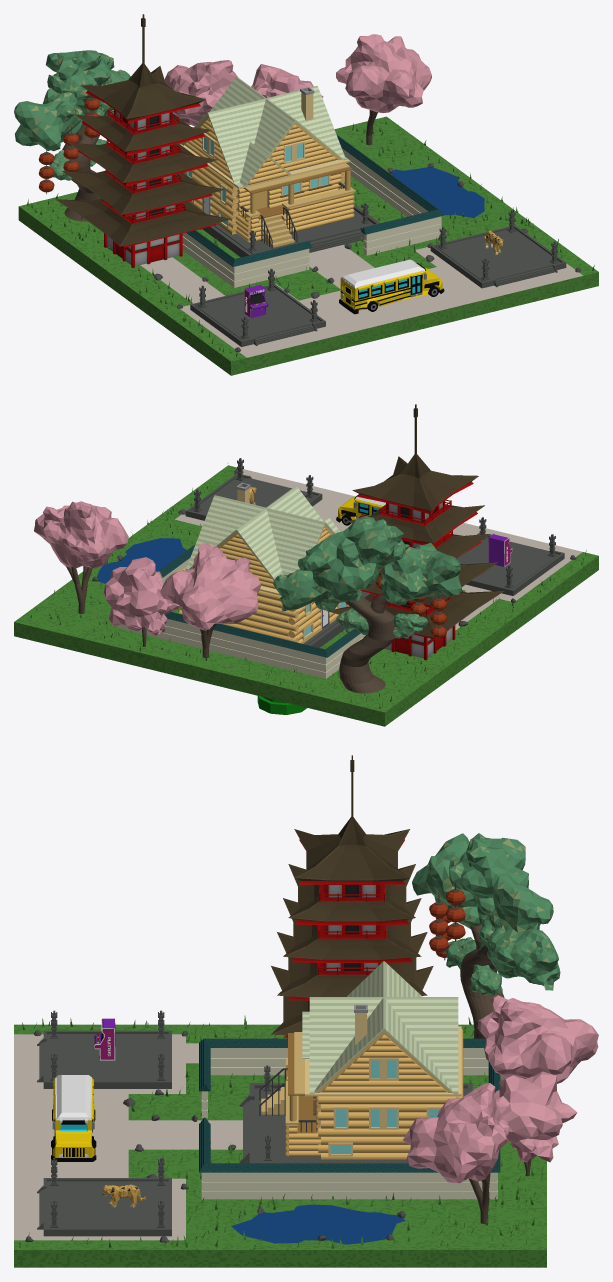
The picture shows the model from 3 angles, top to bottom: view 1: azimuth 30°, elevation 25°; view 2: azimuth 150°, elevation 25°; view 3: azimuth 270°, elevation 25°; orthographic projection. The views are drawn at different scales.
Parts seen in each view (by area): view 1: Cube.005, Cube.1516, VEHICLES_SCHOOL_BUS, OBJRANDOM_ARCADE; view 2: Cube.005, Cube.1516, VEHICLES_SCHOOL_BUS, OBJRANDOM_ARCADE, UNDERGROUND_PIPES; view 3: Cube.005, Cube.1516, VEHICLES_SCHOOL_BUS, OBJRANDOM_ARCADE.
Part boxes in pixels (x1,y1,x2,y2): Cube.005: (14, 14, 598, 375); Cube.1516: (179, 77, 355, 248); VEHICLES_SCHOOL_BUS: (339, 259, 444, 314); OBJRANDOM_ARCADE: (244, 284, 268, 318); Cube.005: (14, 404, 598, 726); Cube.1516: (178, 482, 360, 643); VEHICLES_SCHOOL_BUS: (336, 494, 385, 525); OBJRANDOM_ARCADE: (488, 533, 512, 566); UNDERGROUND_PIPES: (257, 696, 306, 714); Cube.005: (14, 755, 598, 1267); Cube.1516: (259, 961, 463, 1159); VEHICLES_SCHOOL_BUS: (51, 1075, 96, 1161); OBJRANDOM_ARCADE: (94, 1018, 115, 1060).
Size of the model in its own units: 4528 by 3273 by 4389.
52 materials, 6 textured.
